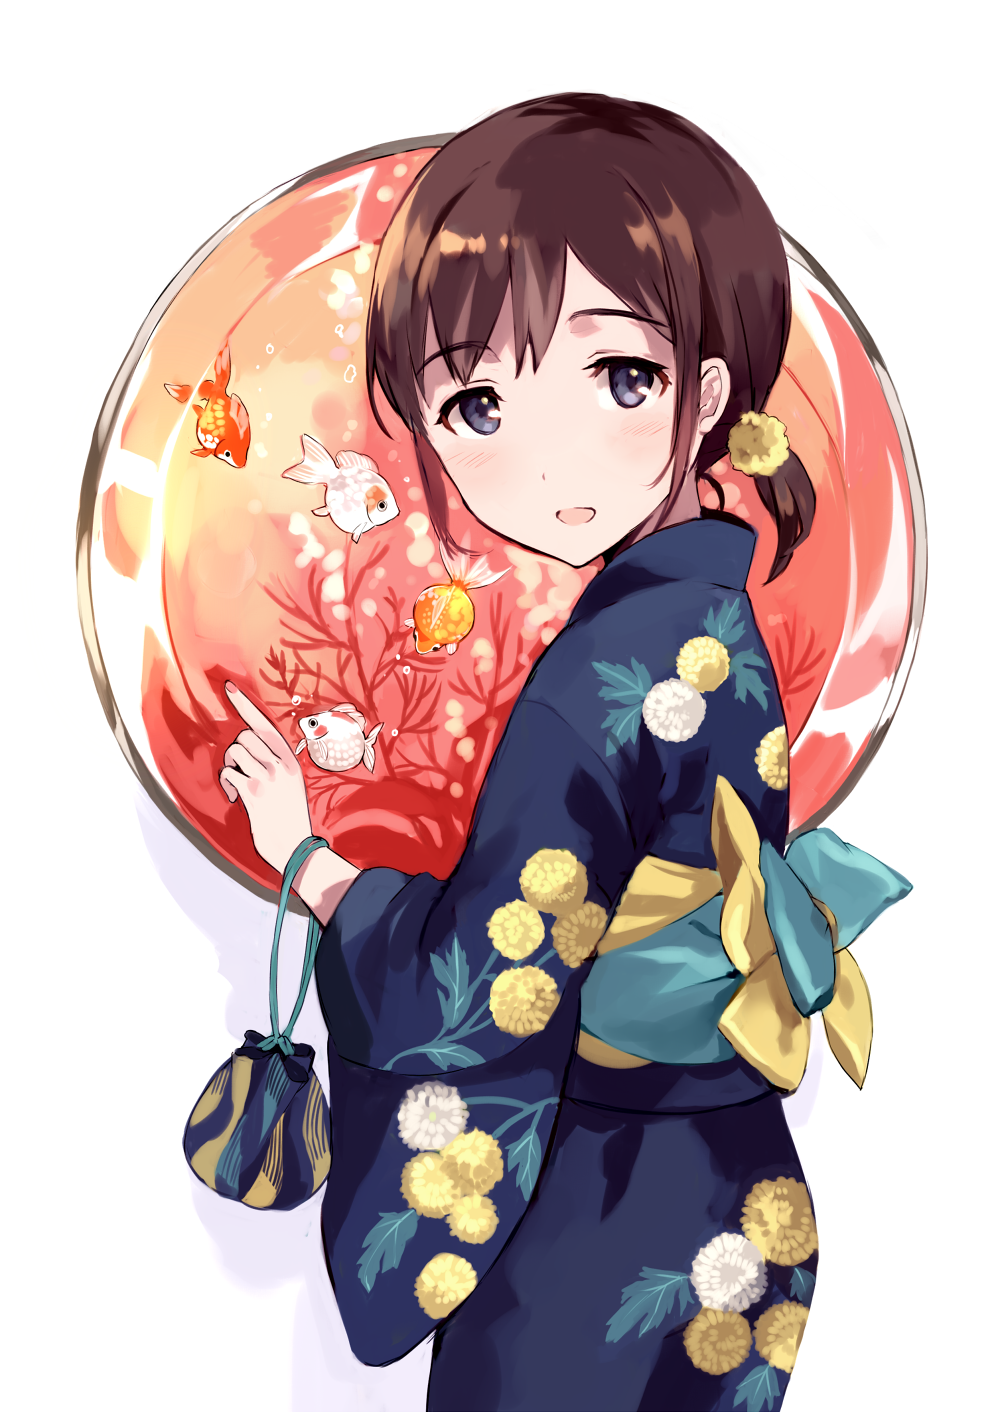纸片人正脸: (347, 88, 800, 577)
